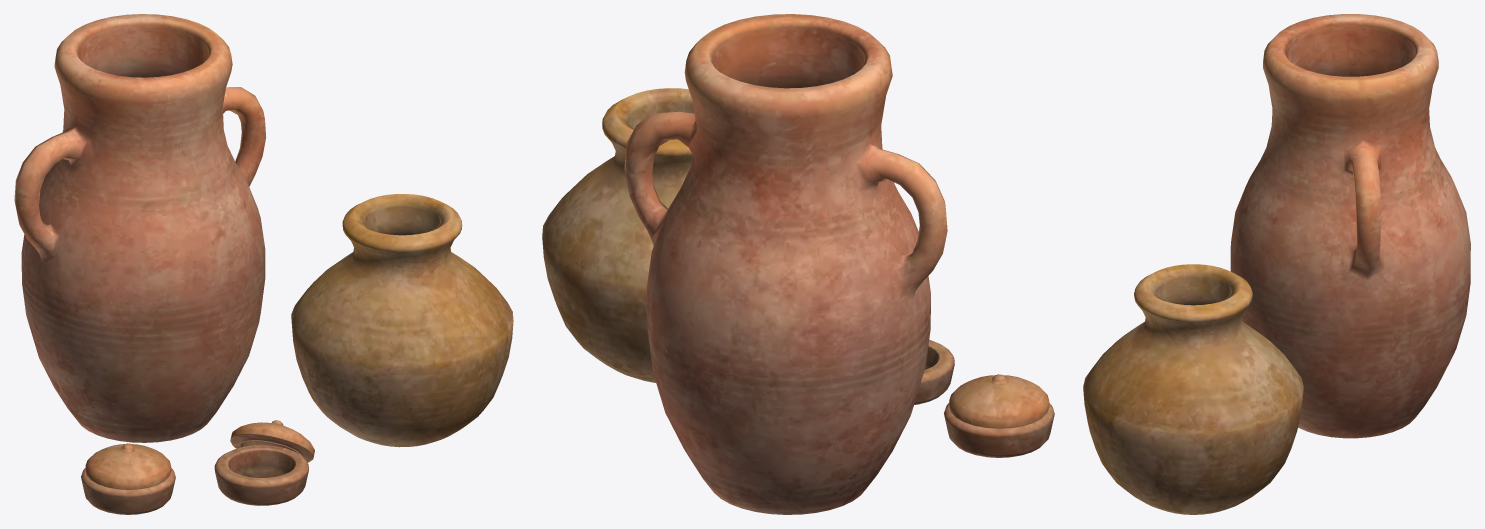
3 views of the same model, side by side, from view 1: azimuth 30°, elevation 25°; view 2: azimuth 150°, elevation 25°; view 3: azimuth 270°, elevation 25° (orthographic). The views are drawn at different scales.
Visible parts, largest first — view 1: SM_Moon_Garou_Vases_Set_03v1_LOD0; view 2: SM_Moon_Garou_Vases_Set_03v1_LOD0; view 3: SM_Moon_Garou_Vases_Set_03v1_LOD0.
Part boxes in pixels (x1,y1,x2,y2): SM_Moon_Garou_Vases_Set_03v1_LOD0: [14, 14, 513, 514]; SM_Moon_Garou_Vases_Set_03v1_LOD0: [542, 14, 1054, 514]; SM_Moon_Garou_Vases_Set_03v1_LOD0: [1083, 14, 1470, 514].
Bounding box in the file's own units: 1.43 × 1.21 × 1.17.
1 material, 1 textured.
